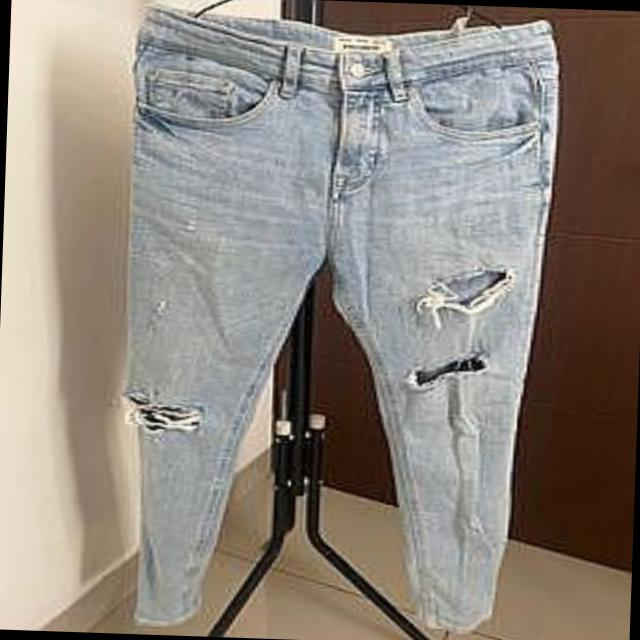TROUSER: (99, 7, 566, 640)
